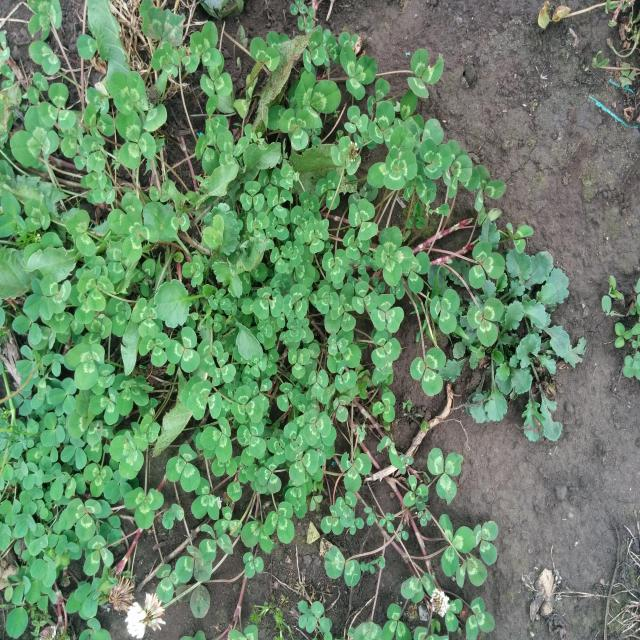Four Leaf Clover: (375, 226, 417, 287)
